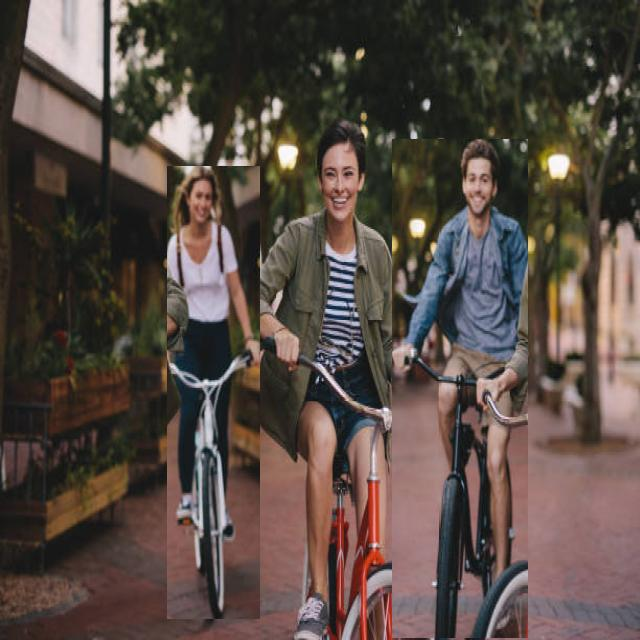bicycle: (240, 120, 446, 638), (392, 139, 528, 638), (168, 167, 260, 619)
